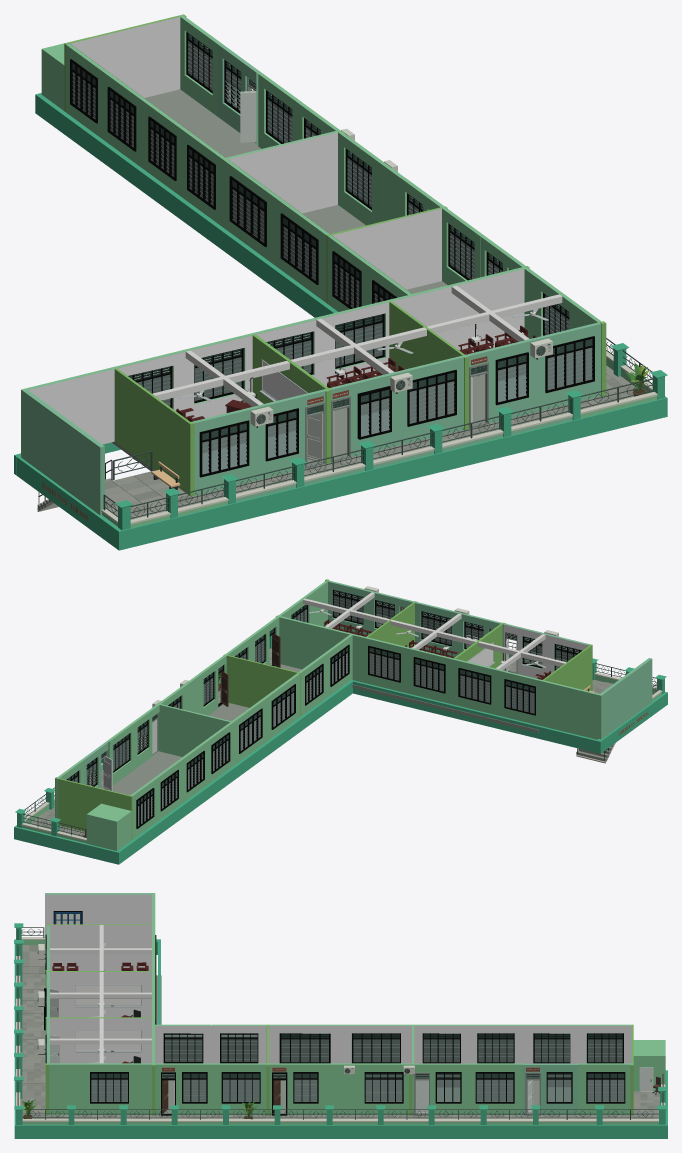
File: laboratorium_lt3_indoor.glb
The picture shows the model from 3 angles, top to bottom: view 1: azimuth 30°, elevation 25°; view 2: azimuth 150°, elevation 25°; view 3: azimuth 270°, elevation 25°; orthographic projection. The views are drawn at different scales.
Visible parts, largest first — view 1: L2_Balok_fasad_utama, L3_Fasad_depan_bagian_logo, L2_Pelat_ruang.001, Plane.056, Plane.051, L3_Partisi_perkiraan_X6.4, Plane.048, Plane.008, L2_B07_Bukaan_1_jalusi_Daun_jalusi_2.004, L2_B07_Bukaan_1_jalusi_Daun_jalusi_2.030, L2_B07_Bukaan_1_jalusi_Daun_jalusi_2.029, Plane.014 (+36 smaller); view 2: L2_Balok_fasad_utama, L2_B07_Bukaan_1_jalusi_Daun_jalusi_2.016, L2_Partisi_perkiraan_X12.007, L2_Pelat_ruang.001, L3_B01_Dinding_dengan_bukaan.001, L3_Fasad_depan_bagian_logo, L3_Partisi_perkiraan_X12.002, L3_Partisi_perkiraan_X12.001, L2_B07_Bukaan_1_jalusi_Daun_jalusi_2.017, L2_B07_Bukaan_1_jalusi_Daun_jalusi_2.018, L2_B07_Bukaan_1_jalusi_Daun_jalusi_2.019, L2_Dinding_annex_belakang.003 (+22 smaller); view 3: L2_Balok_fasad_utama, L2_B07_Bukaan_1_jalusi_Daun_jalusi_2.007, L2_B07_Bukaan_1_jalusi_Daun_jalusi_2.004, Plane.002, Plane.013, L2_B07_Bukaan_1_jalusi_Daun_jalusi_2.005, L2_B07_Bukaan_1_jalusi_Daun_jalusi_2.006, Plane.006, Plane.004, L2_B07_Bukaan_1_jalusi_Daun_jalusi_2.003, Plane.044, Plane.046 (+38 smaller).
Boxes of the visible parts, x1,y1,x2,y2 form: L2_Balok_fasad_utama: (14, 93, 667, 550); L3_Fasad_depan_bagian_logo: (23, 390, 104, 515); L2_Pelat_ruang.001: (105, 89, 524, 482); Plane.056: (70, 17, 180, 97); Plane.051: (228, 132, 337, 213); L3_Partisi_perkiraan_X6.4: (114, 368, 189, 494); Plane.048: (332, 208, 441, 289); Plane.008: (392, 269, 524, 352); L2_B07_Bukaan_1_jalusi_Daun_jalusi_2.004: (338, 131, 403, 225); L2_B07_Bukaan_1_jalusi_Daun_jalusi_2.030: (274, 196, 329, 302); L2_B07_Bukaan_1_jalusi_Daun_jalusi_2.029: (223, 159, 277, 264); Plane.014: (28, 369, 114, 444); L2_Balok_fasad_utama: (14, 680, 667, 864); L2_B07_Bukaan_1_jalusi_Daun_jalusi_2.016: (498, 669, 602, 739); L2_Partisi_perkiraan_X12.007: (279, 616, 362, 681); L2_Pelat_ruang.001: (112, 664, 538, 795); L3_B01_Dinding_dengan_bukaan.001: (157, 703, 234, 765); L3_Fasad_depan_bagian_logo: (600, 658, 652, 737); L3_Partisi_perkiraan_X12.002: (226, 655, 300, 716); L3_Partisi_perkiraan_X12.001: (58, 778, 132, 839); L2_B07_Bukaan_1_jalusi_Daun_jalusi_2.017: (452, 658, 499, 715); L2_B07_Bukaan_1_jalusi_Daun_jalusi_2.018: (361, 636, 408, 693); L2_B07_Bukaan_1_jalusi_Daun_jalusi_2.019: (407, 647, 452, 704); L2_Dinding_annex_belakang.003: (88, 804, 131, 850); L2_Balok_fasad_utama: (14, 939, 667, 1138); L2_B07_Bukaan_1_jalusi_Daun_jalusi_2.007: (50, 1063, 157, 1114); L2_B07_Bukaan_1_jalusi_Daun_jalusi_2.004: (324, 1063, 411, 1114); Plane.002: (50, 925, 151, 970); Plane.013: (45, 894, 151, 944); L2_B07_Bukaan_1_jalusi_Daun_jalusi_2.005: (467, 1063, 522, 1114); L2_B07_Bukaan_1_jalusi_Daun_jalusi_2.006: (578, 1063, 633, 1114); Plane.006: (50, 1018, 151, 1063); Plane.004: (50, 972, 151, 1017); L2_B07_Bukaan_1_jalusi_Daun_jalusi_2.003: (213, 1063, 268, 1114); Plane.044: (269, 1026, 411, 1075); Plane.046: (522, 1026, 631, 1075).
Bounding box in the file's own units: 25.43 × 5.12 × 37.71.
417 materials, 8 textured.
